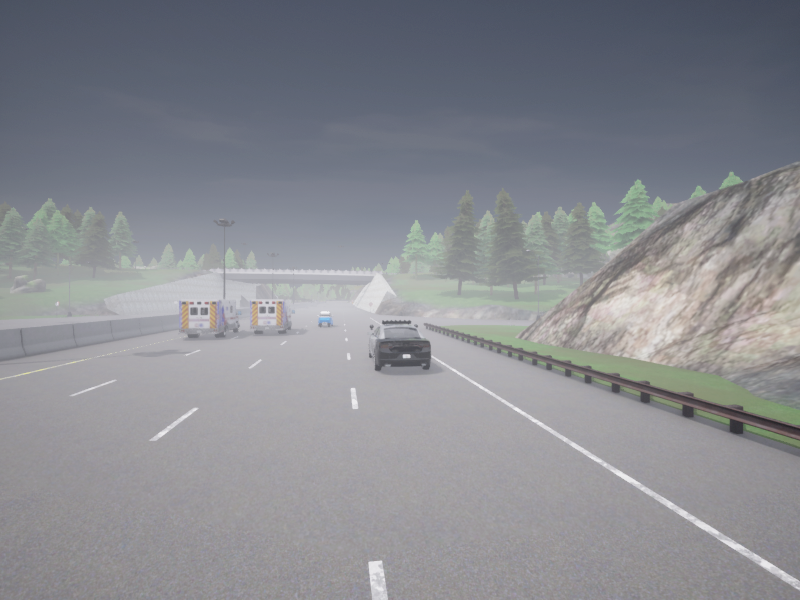vehicle: (368, 320, 430, 370), (178, 300, 241, 337), (249, 300, 294, 333), (317, 311, 333, 326)
